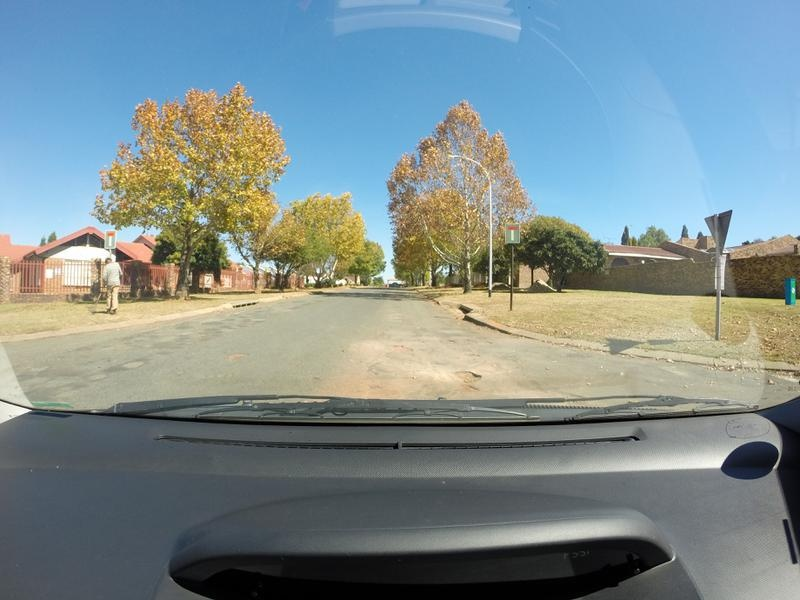pothole: (455, 359, 480, 388), (379, 336, 416, 355)
